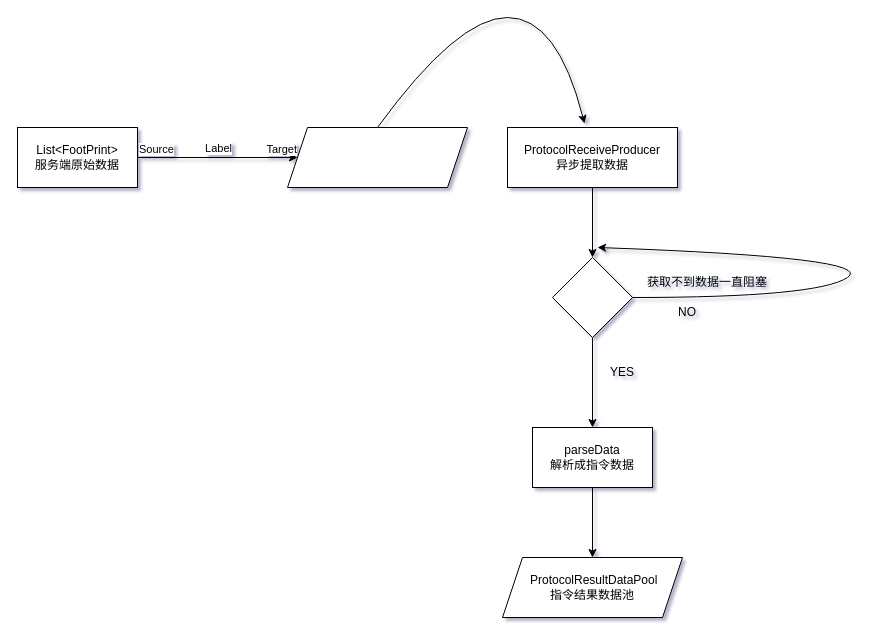
This 874x641 diagram has some shape labels left out. The shapes that lost their labels are listed below. From the top down, each one's centre as x and y in pixels, then its label:
At (x=377, y=157): "ProtocolReceiveDataPool 原始数据池".
At (x=592, y=297): "getData".
